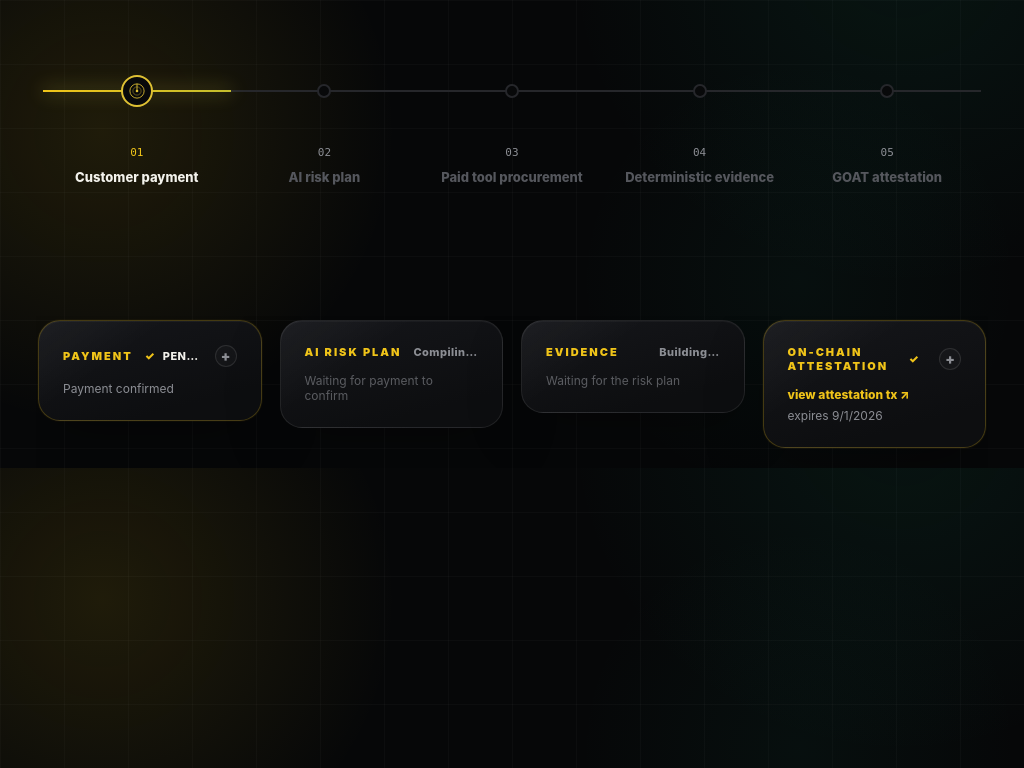
Test: RunProgressPanels › expands a ready panel on click but leaves a pending panel non-interactive
Click the button "ON-CHAIN ATTESTATION +" at {"x": 874, "y": 359}, box [788,345,961,373]
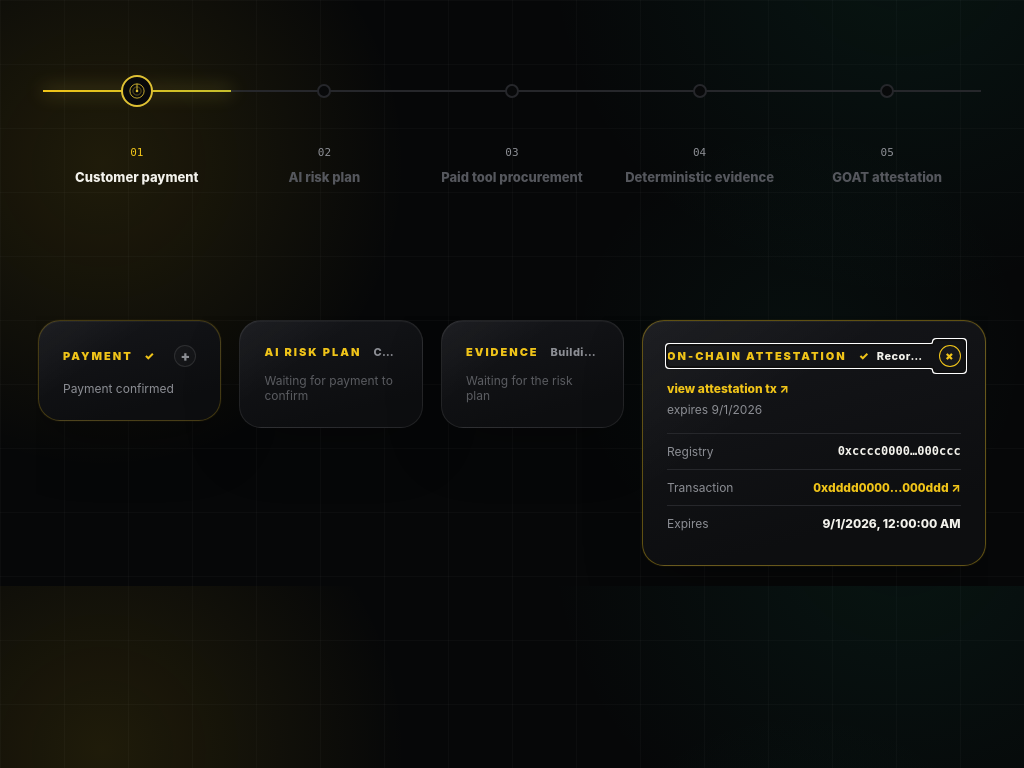
Expected: the button "AI RISK PLAN Compiling…" is disabled, [264,345,398,359]
Result: the text "Registry" is shown at [667,444,714,459]
